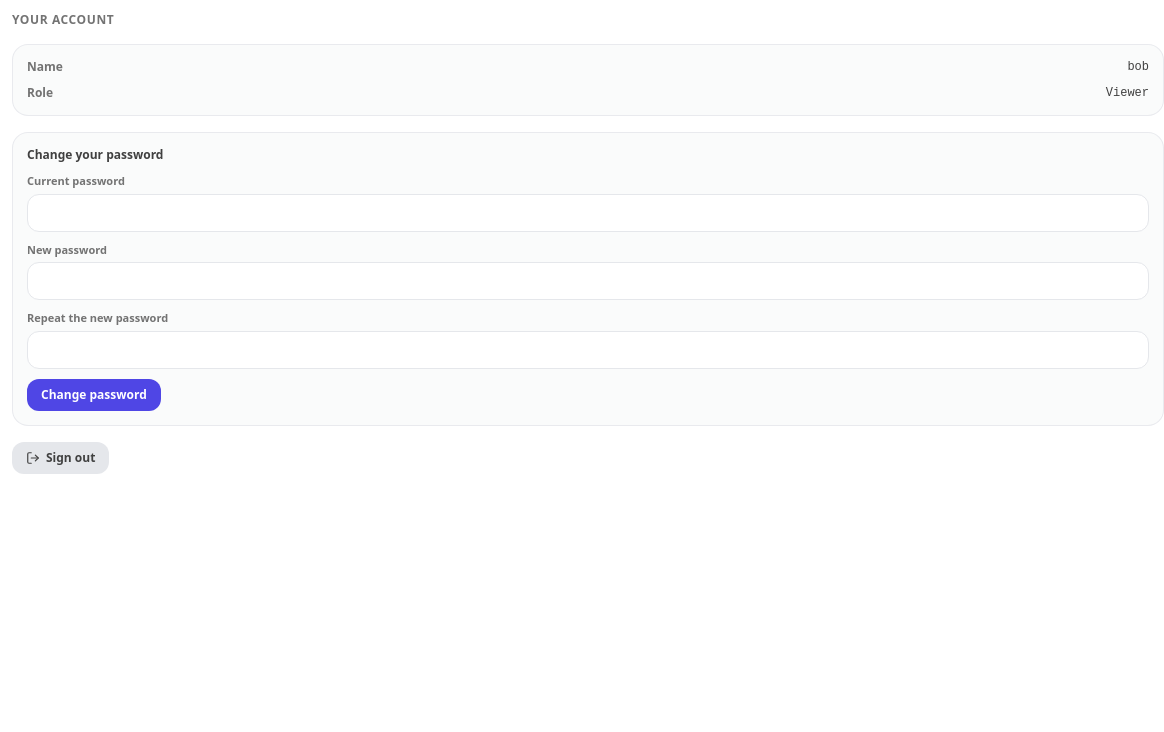
Test: AccountSection › checks before asking the server › blocks the request when the current password is empty
Type "new-password-1" into the password field labelled "New password".
click(588, 281); type("new-password-1")  # box [27,262,1149,300]
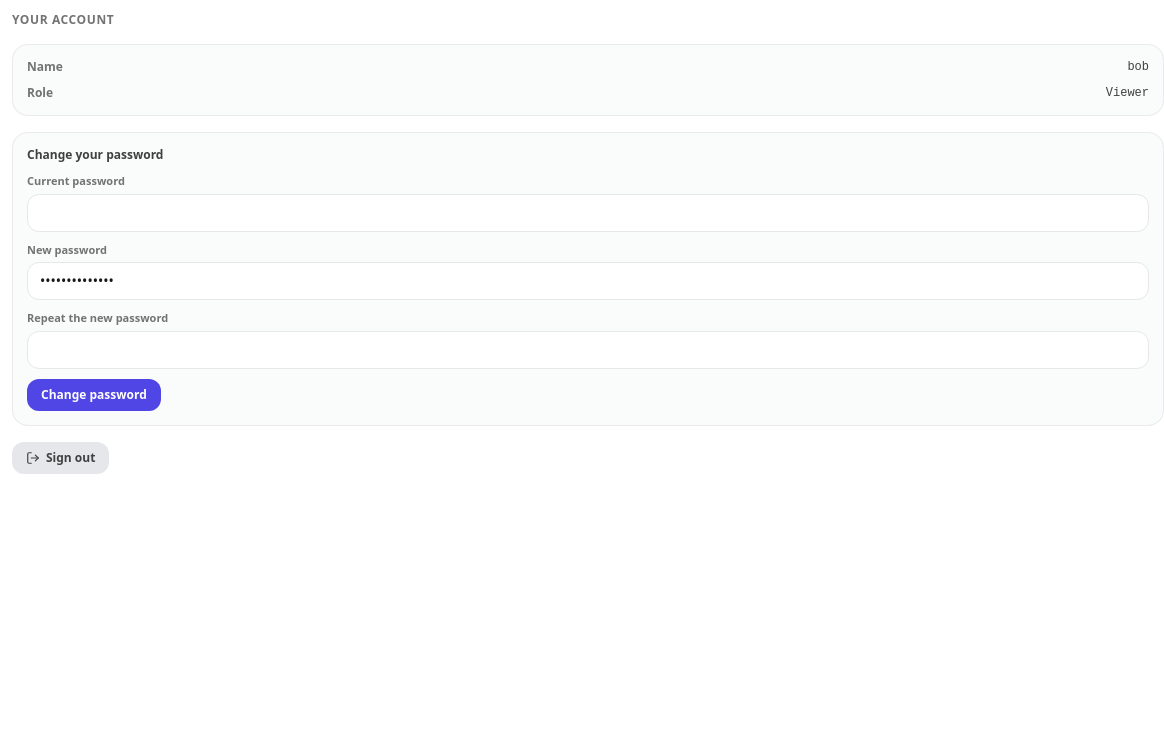
Type "new-password-1" into the password field labelled "Repeat the new password".
click(588, 350); type("new-password-1")  # box [27,330,1149,368]
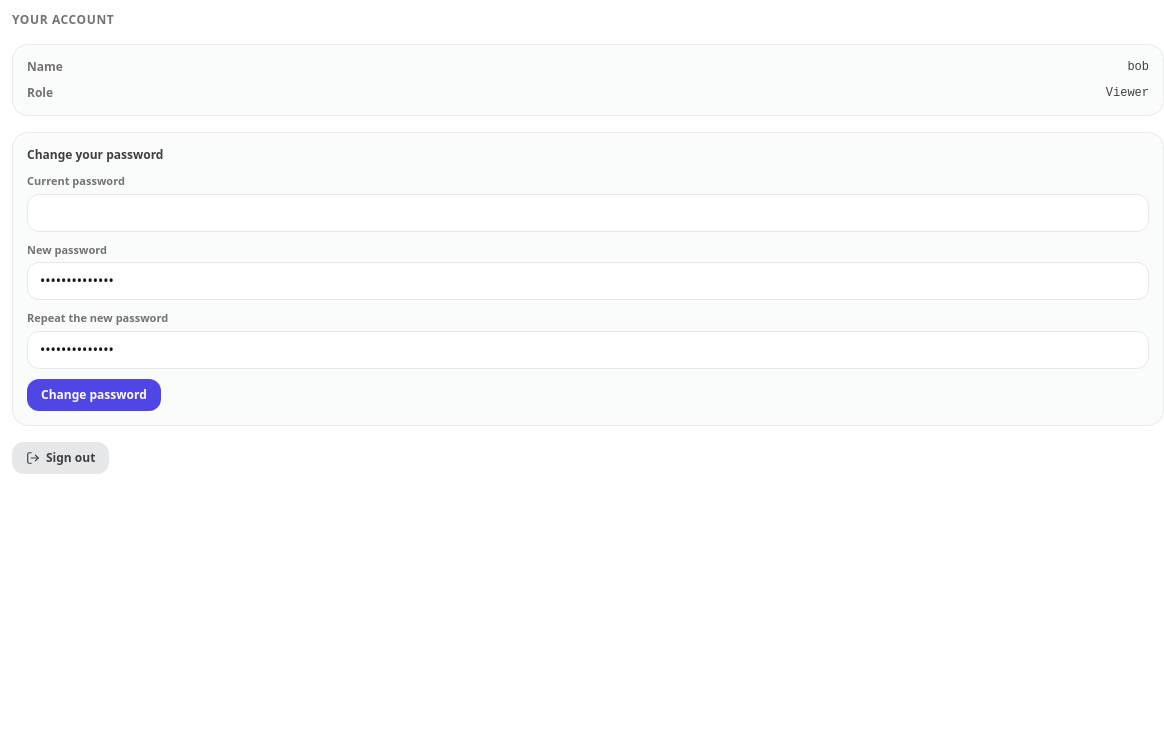
Click the button "Change password".
click(94, 394)  # box [27,378,161,410]
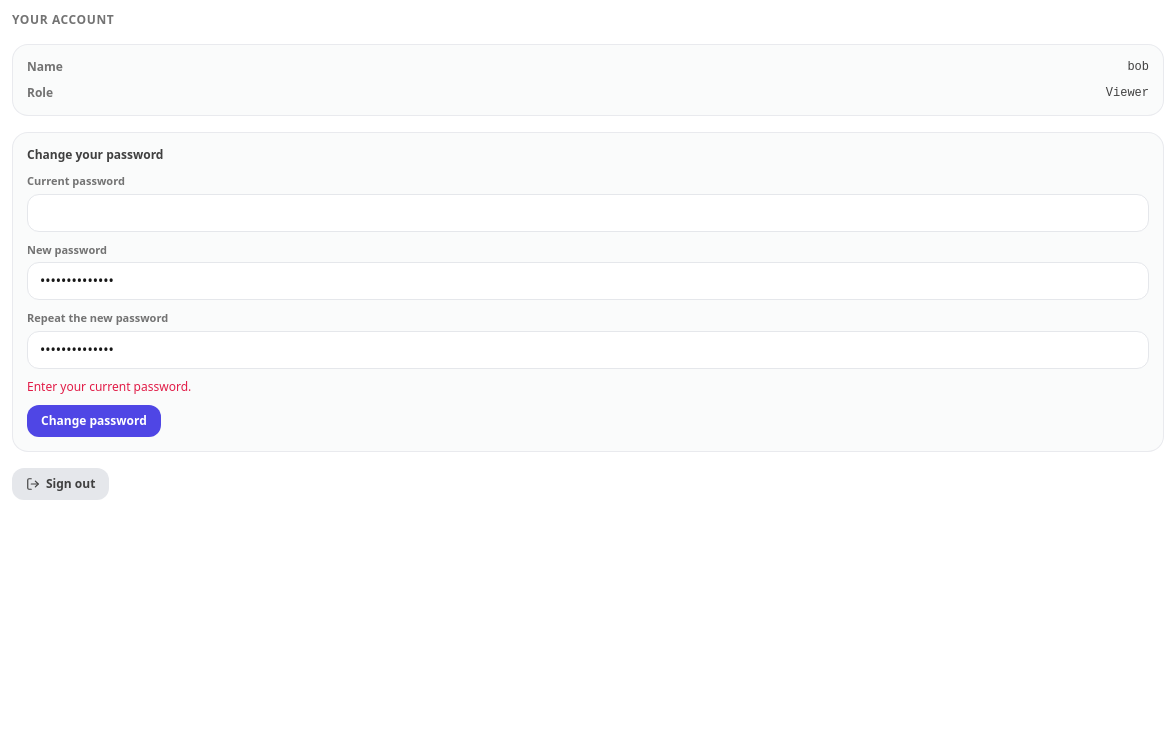
Expected: the message reads "Enter your current password.", [27,378,191,394]
